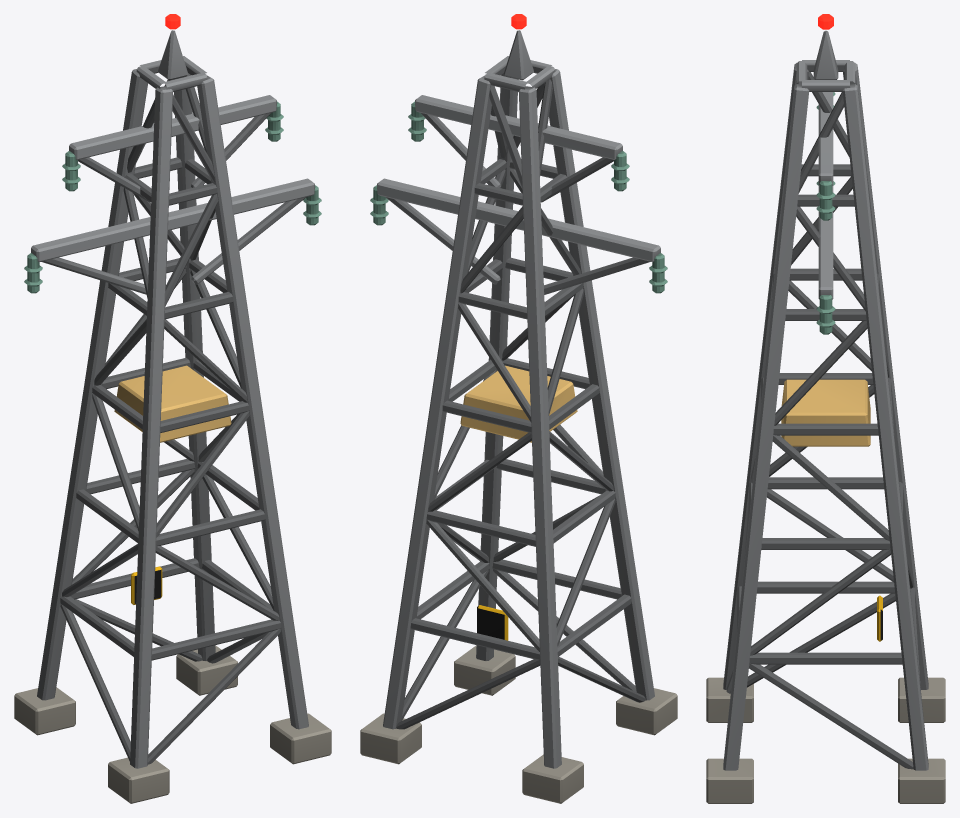
Rendered from power_pylon.glb.
3 renders of one model, left to right at view 1: azimuth 30°, elevation 25°; view 2: azimuth 150°, elevation 25°; view 3: azimuth 270°, elevation 25°, orthographic. The views are drawn at different scales.
Parts seen in each view (by area): view 1: power_pylon; view 2: power_pylon; view 3: power_pylon.
Boxes of the visible parts, x1,y1,x2,y2 form: power_pylon: (14,14,331,803); power_pylon: (360,14,677,803); power_pylon: (706,14,945,803).
Size of the model in its own units: 1.16 by 2.72 by 0.8.
